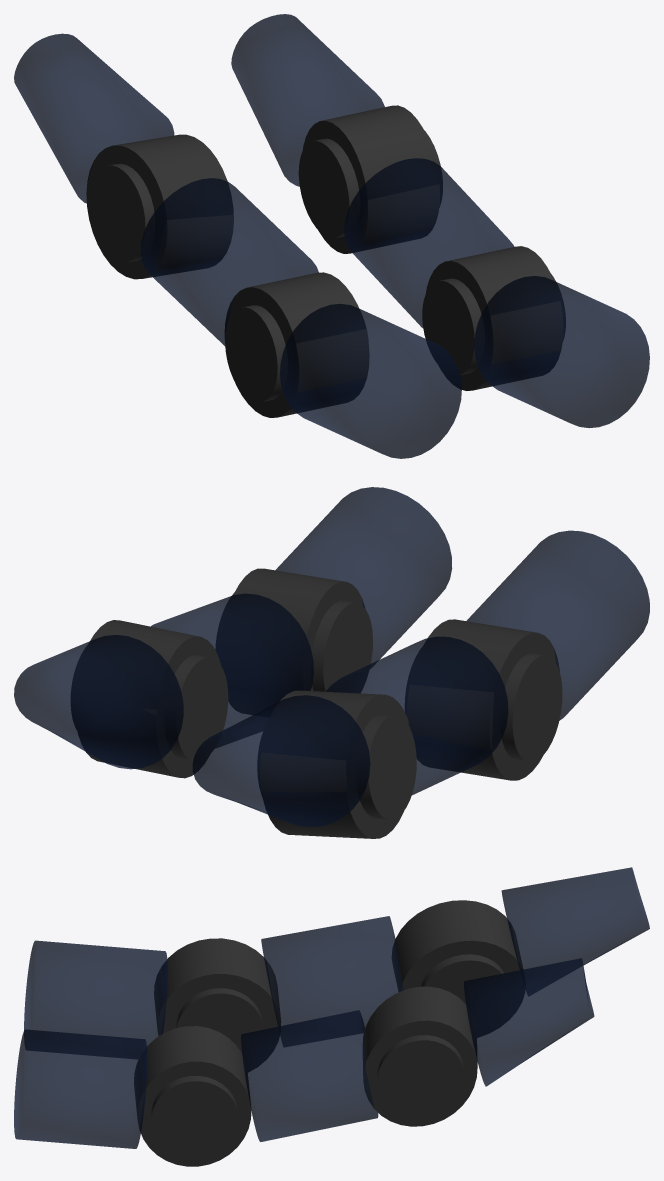
File: right index and middle.fbx
3 renders of one model, top to bottom at view 1: azimuth 30°, elevation 25°; view 2: azimuth 150°, elevation 25°; view 3: azimuth 270°, elevation 25°, orthographic. The views are drawn at different scales.
Visible parts, largest first — view 1: Right_Middle Body 1, Right_Index Body 1, Right_Middle Body 1.001, Right_Index Body 2, Right_Middle Tip, Right_Index Tip, Right_Middle Joint 2, Right_Middle Joint 1, Right_Index Joint 2, Right_Index Joint 1, Right_Middle Joint 2.001, Right_Index Joint 2.001 (+2 smaller); view 2: Right_Middle Body 1, Right_Middle Tip, Right_Index Tip, Right_Index Body 1, Right_Middle Joint 1, Right_Middle Joint 2, Right_Middle Body 1.001, Right_Index Joint 2, Right_Index Joint 1, Right_Index Body 2, Right_Index Joint 2.001, Right_Middle Joint 1.001 (+2 smaller); view 3: Right_Middle Body 1, Right_Index Body 1, Right_Index Body 2, Right_Middle Body 1.001, Right_Middle Tip, Right_Index Tip, Right_Middle Joint 2, Right_Index Joint 1, Right_Index Joint 2, Right_Middle Joint 1, Right_Index Joint 2.001, Right_Index Joint 1.001 (+2 smaller).
Part boxes in pixels (left/top/right/bottom): Right_Middle Body 1: left=280, top=303, right=461, bottom=458; Right_Index Body 1: left=474, top=276, right=649, bottom=428; Right_Middle Body 1.001: left=140, top=178, right=318, bottom=346; Right_Index Body 2: left=344, top=158, right=514, bottom=327; Right_Middle Tip: left=14, top=33, right=174, bottom=203; Right_Index Tip: left=231, top=14, right=384, bottom=186; Right_Middle Joint 2: left=86, top=134, right=233, bottom=279; Right_Middle Joint 1: left=224, top=272, right=369, bottom=417; Right_Index Joint 2: left=302, top=105, right=439, bottom=253; Right_Index Joint 1: left=426, top=246, right=563, bottom=390; Right_Middle Joint 2.001: left=88, top=163, right=154, bottom=262; Right_Index Joint 2.001: left=298, top=130, right=442, bottom=238; Right_Middle Body 1: left=466, top=530, right=649, bottom=720; Right_Middle Tip: left=192, top=695, right=370, bottom=827; Right_Index Tip: left=14, top=635, right=183, bottom=769; Right_Index Body 1: left=275, top=487, right=452, bottom=667; Right_Middle Joint 1: left=406, top=619, right=559, bottom=780; Right_Middle Joint 2: left=260, top=690, right=410, bottom=838; Right_Middle Body 1.001: left=326, top=636, right=508, bottom=795; Right_Index Joint 2: left=75, top=620, right=221, bottom=778; Right_Index Joint 1: left=220, top=568, right=365, bottom=714; Right_Index Body 2: left=151, top=593, right=313, bottom=747; Right_Index Joint 2.001: left=71, top=647, right=228, bottom=761; Right_Middle Joint 1.001: left=405, top=649, right=562, bottom=761; Right_Middle Body 1: left=24, top=940, right=167, bottom=1058; Right_Index Body 1: left=14, top=1029, right=147, bottom=1148; Right_Index Body 2: left=241, top=1010, right=378, bottom=1141; Right_Middle Body 1.001: left=261, top=916, right=403, bottom=1046; Right_Middle Tip: left=501, top=867, right=649, bottom=995; Right_Index Tip: left=464, top=958, right=594, bottom=1086; Right_Middle Joint 2: left=391, top=900, right=524, bottom=1037; Right_Index Joint 1: left=134, top=1026, right=251, bottom=1166; Right_Index Joint 2: left=362, top=986, right=477, bottom=1126; Right_Middle Joint 1: left=154, top=938, right=281, bottom=1071; Right_Index Joint 2.001: left=377, top=1035, right=463, bottom=1117; Right_Index Joint 1.001: left=151, top=1076, right=238, bottom=1157.
Bounding box in the file's own units: 71.55 × 47.79 × 143.
